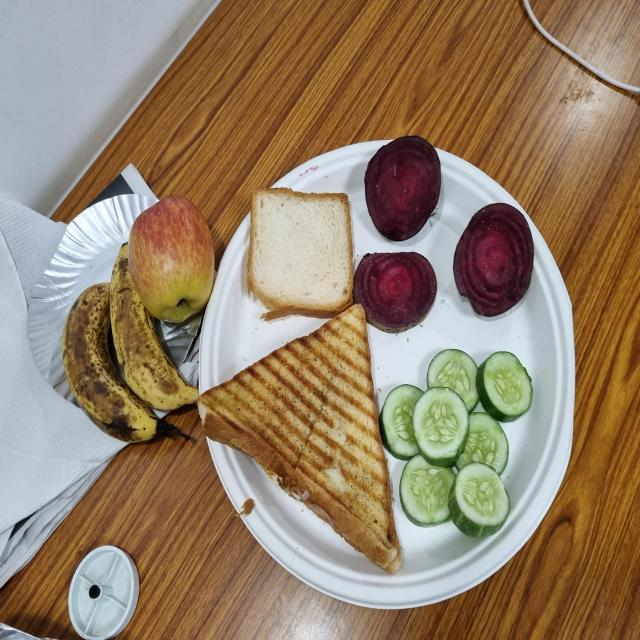apple: (126, 199, 218, 325)
banana: (64, 283, 160, 445), (110, 247, 198, 415)
cucumber: (413, 388, 471, 470), (453, 464, 512, 544), (476, 352, 536, 427), (401, 457, 460, 529), (451, 414, 512, 479), (378, 384, 426, 464), (427, 350, 484, 414)
